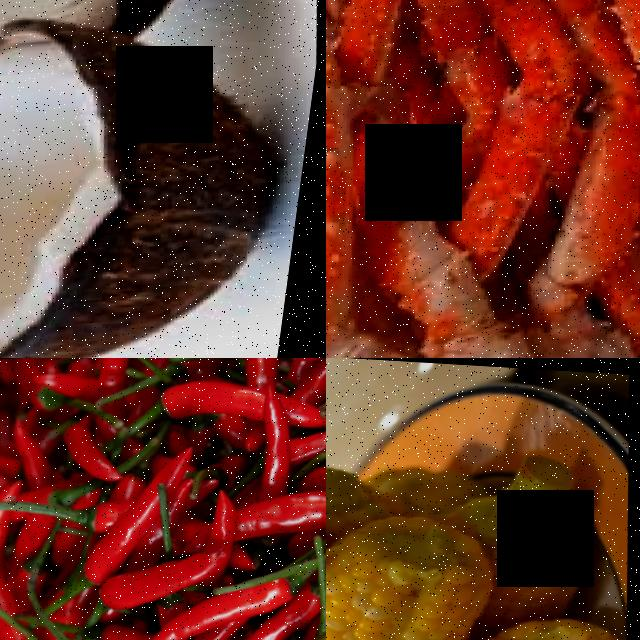chilli: (149, 551, 317, 640), (95, 542, 236, 615), (146, 361, 272, 430), (247, 373, 306, 491), (233, 475, 326, 541)
coconut: (0, 26, 322, 358)
corn: (326, 513, 507, 640)
crab: (326, 0, 640, 358)
